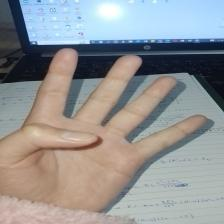four: (3, 43, 213, 214)
